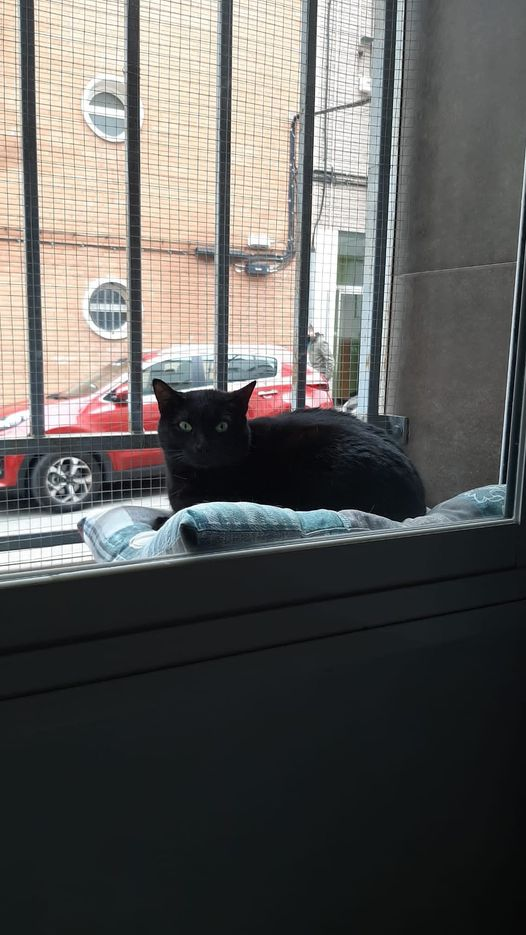cat: (133, 363, 427, 523)
